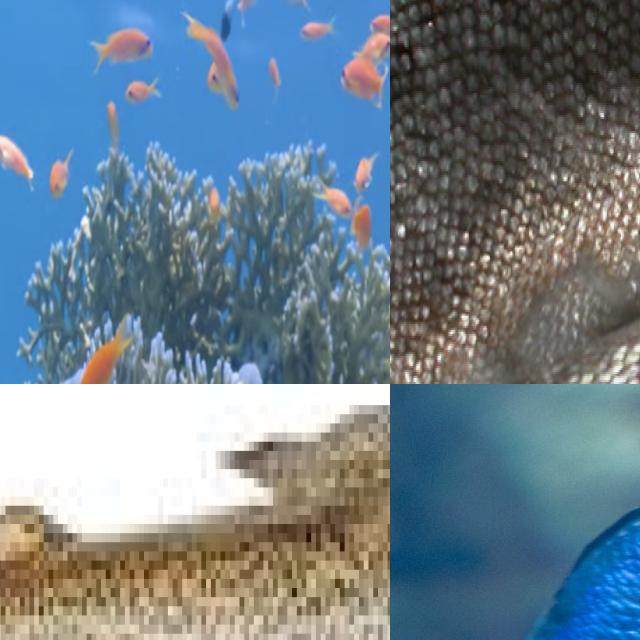fish: (0, 0, 390, 384), (390, 0, 640, 384)
